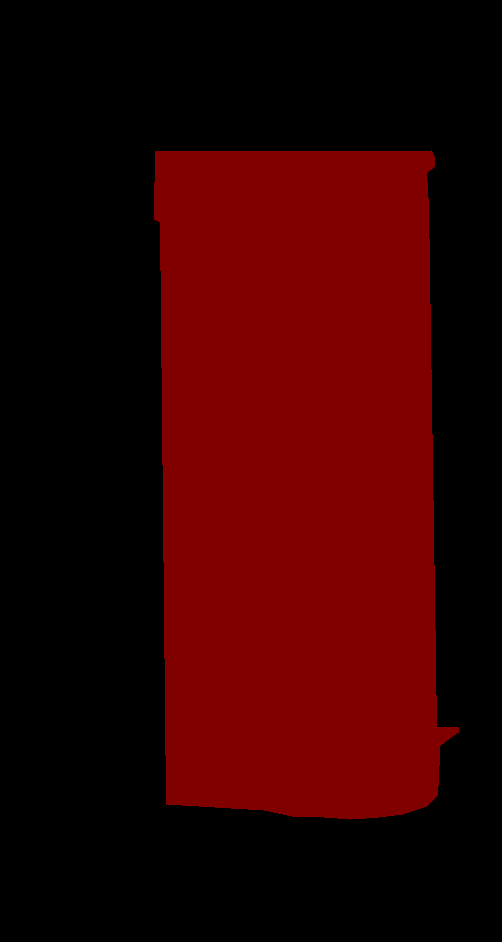sign: (154, 150, 458, 819)
